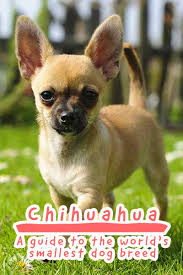chihuahua: (13, 12, 169, 204)
